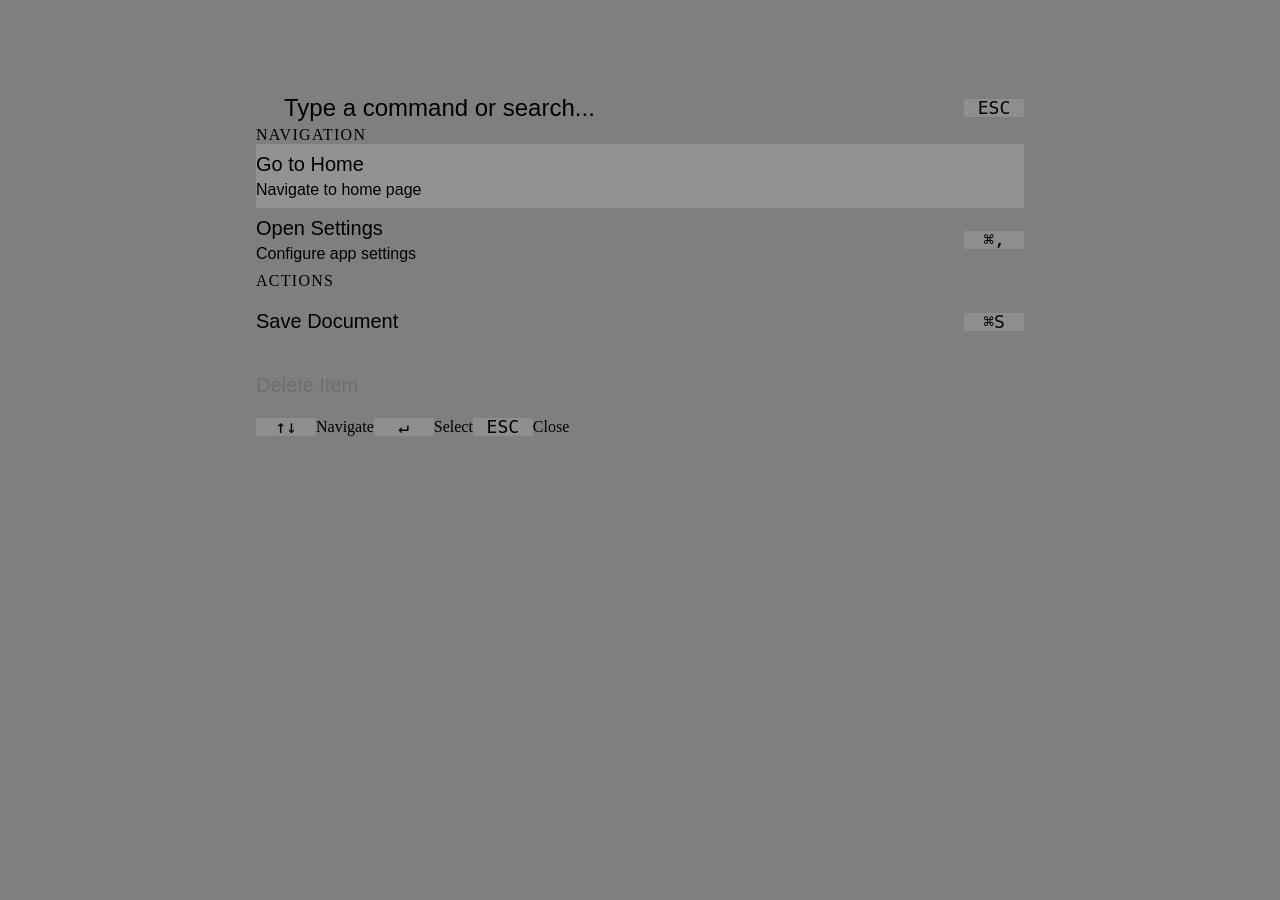
CommandPalette › Search Functionality › uses custom empty message
The width and height of the screenshot is (1280, 900).
Type "xyz" into the field with placeholder "Type a command or search...".
click(624, 108); type("xyz")  # box x1=284 y1=90 x2=964 y2=126
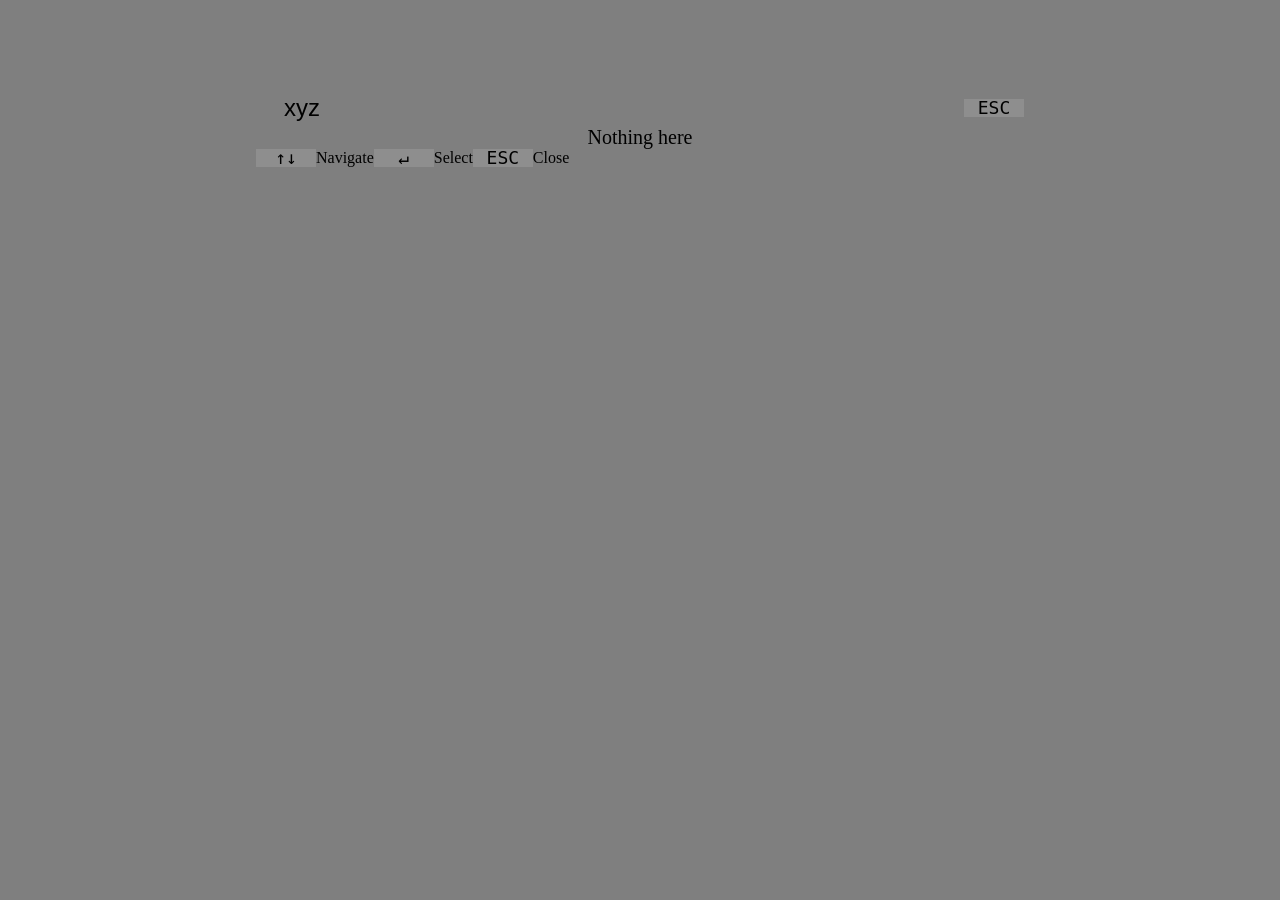
Expected: the text "Nothing here" is shown, x1=588 y1=126 x2=692 y2=148
